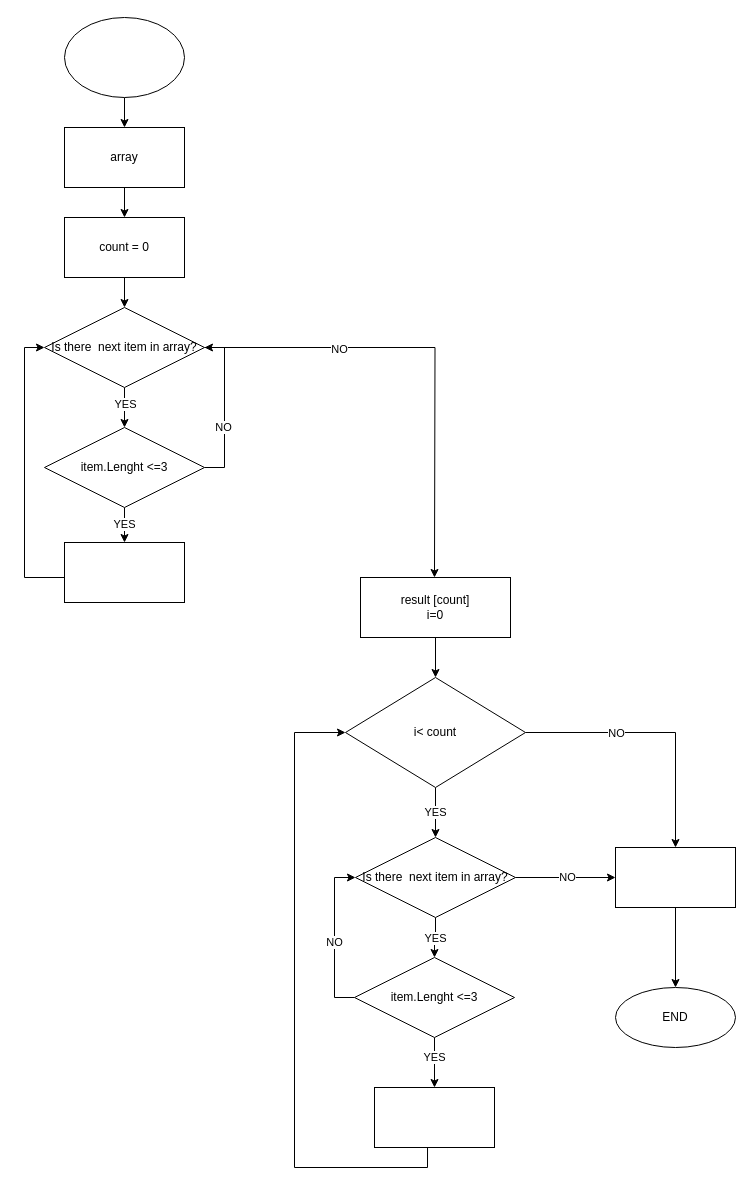
Some shapes in this 753 by 1193 pixel diagram are drawn without their labels. The box of each missing label's shape, as (x1, y1, x2, y2) in pixels:
Begin: (64, 16, 184, 98)
count ++: (64, 542, 184, 602)
result[i] = item i++: (374, 1086, 494, 1148)
return result: (614, 846, 736, 908)
